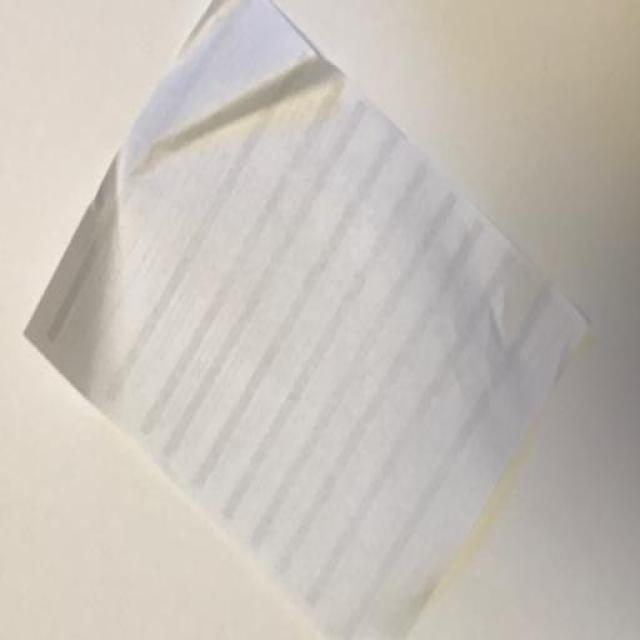paper: (21, 0, 591, 638)
